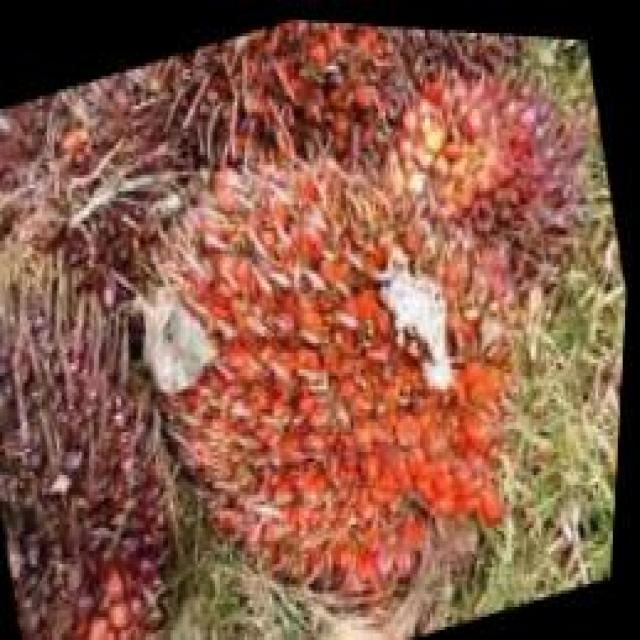Ripefruit: (102, 59, 560, 640), (363, 20, 620, 310)
